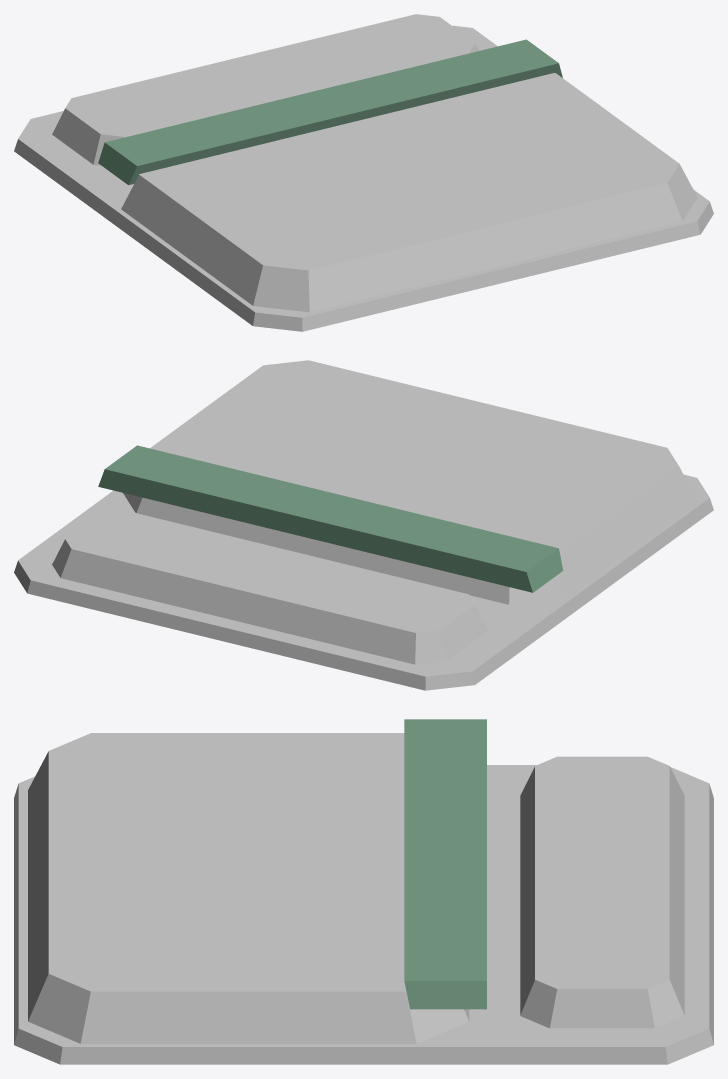
Rendered from bedroll_double.obj.
3 views of the same model, one above another, from view 1: azimuth 30°, elevation 25°; view 2: azimuth 150°, elevation 25°; view 3: azimuth 270°, elevation 25° (orthographic). The views are drawn at different scales.
Visible parts, largest first — view 1: bedroll_double_1, bedroll_double_2, bedroll_double_3, bedroll_double_0; view 2: bedroll_double_1, bedroll_double_2, bedroll_double_3, bedroll_double_0; view 3: bedroll_double_1, bedroll_double_2, bedroll_double_0, bedroll_double_3.
Part boxes in pixels (x1,y1,x2,y2): bedroll_double_1: (121,73,697,312); bedroll_double_2: (52,14,479,165); bedroll_double_3: (98,39,562,185); bedroll_double_0: (14,25,713,331); bedroll_double_1: (123,360,697,604); bedroll_double_2: (52,510,488,664); bedroll_double_3: (98,445,562,592); bedroll_double_0: (14,474,713,690); bedroll_double_1: (28,733,469,1043); bedroll_double_2: (520,756,684,1028); bedroll_double_0: (14,765,713,1064); bedroll_double_3: (404,719,486,1009).
Bounding box in the file's own units: 1.76 × 0.205 × 1.82.
